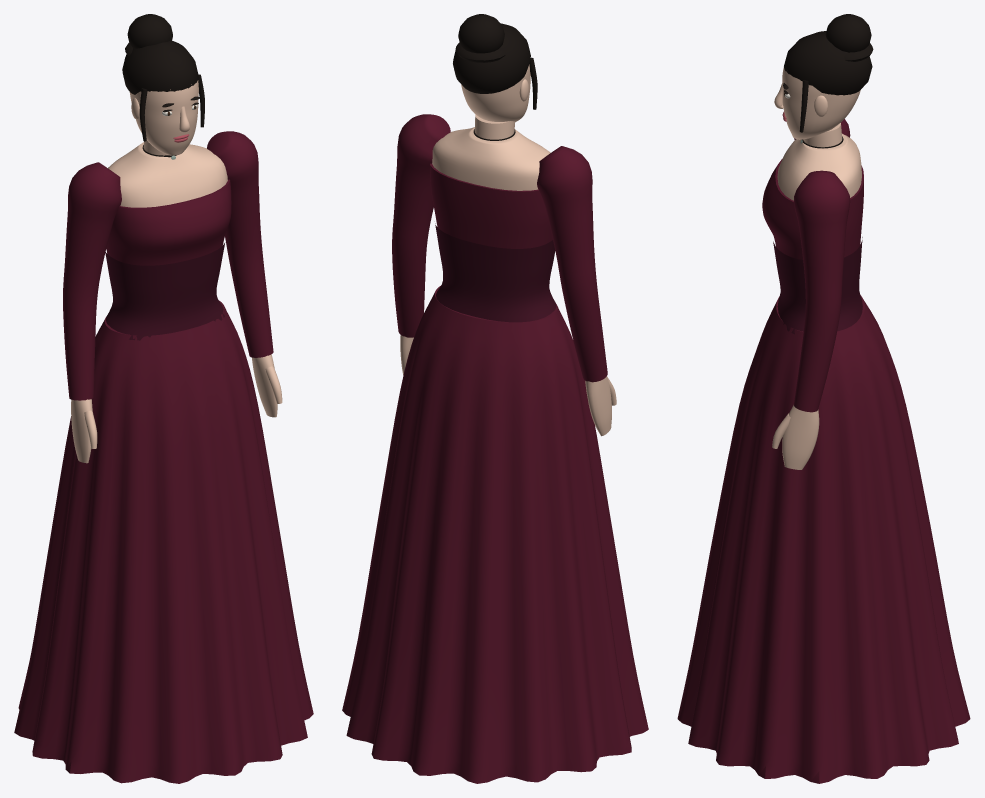
The model's file is cassandra.glb.
3 views of the same model, side by side, from view 1: azimuth 30°, elevation 25°; view 2: azimuth 150°, elevation 25°; view 3: azimuth 270°, elevation 25° (orthographic). The views are drawn at different scales.
Parts seen in each view (by area): view 1: Cassandra_dress, Cassandra_skin, Cassandra_corset, Cassandra_hair; view 2: Cassandra_dress, Cassandra_skin, Cassandra_corset, Cassandra_hair; view 3: Cassandra_dress, Cassandra_skin, Cassandra_hair, Cassandra_corset.
Boxes of the visible parts, x1=… form: Cassandra_dress: x1=14, y1=131, x2=313, y2=783; Cassandra_skin: x1=71, y1=80, x2=282, y2=463; Cassandra_corset: x1=105, y1=242, x2=225, y2=340; Cassandra_hair: x1=122, y1=14, x2=204, y2=157; Cassandra_dress: x1=342, y1=114, x2=648, y2=783; Cassandra_skin: x1=400, y1=64, x2=616, y2=436; Cassandra_corset: x1=435, y1=223, x2=556, y2=322; Cassandra_hair: x1=453, y1=14, x2=537, y2=140; Cassandra_dress: x1=677, y1=119, x2=970, y2=783; Cassandra_skin: x1=772, y1=67, x2=861, y2=469; Cassandra_hair: x1=783, y1=14, x2=873, y2=148; Cassandra_corset: x1=773, y1=237, x2=862, y2=334.
Bounding box in the file's own units: 0.6923 × 1.75 × 0.6603.
